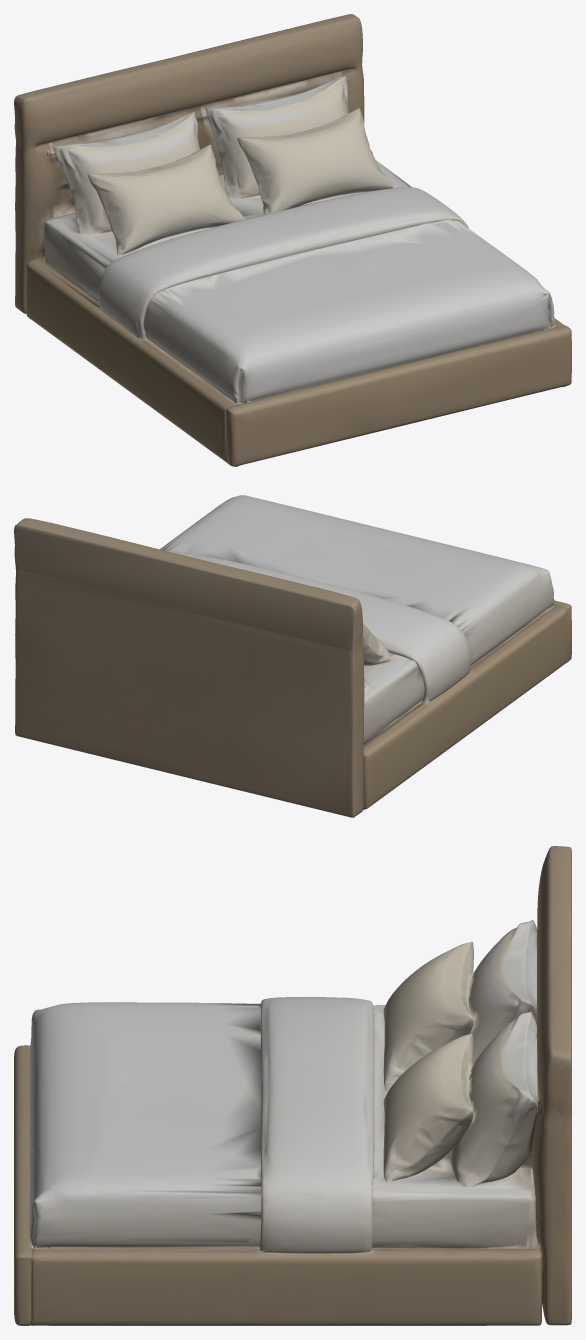
3 views of the same model, one above another, from view 1: azimuth 30°, elevation 25°; view 2: azimuth 150°, elevation 25°; view 3: azimuth 270°, elevation 25° (orthographic). The views are drawn at different scales.
Parts seen in each view (by area): view 1: material; view 2: material; view 3: material.
Boxes of the visible parts, box(x1,y1,x2,y2) form: material: box(14, 14, 571, 466); material: box(14, 495, 571, 817); material: box(14, 846, 571, 1325).
Size of the model in its own units: 0.7557 by 0.4557 by 0.8357.
1 material, 1 textured.
